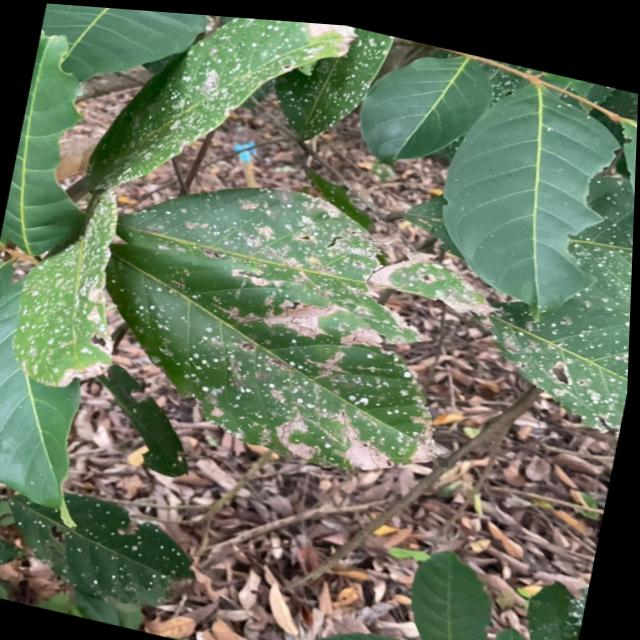Algal Leaf Spot: (36, 204, 443, 478), (98, 6, 375, 271), (516, 176, 636, 422), (0, 465, 183, 619)
